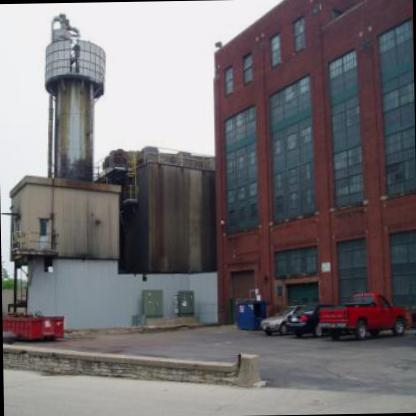car: (286, 300, 341, 338), (258, 302, 304, 336)
